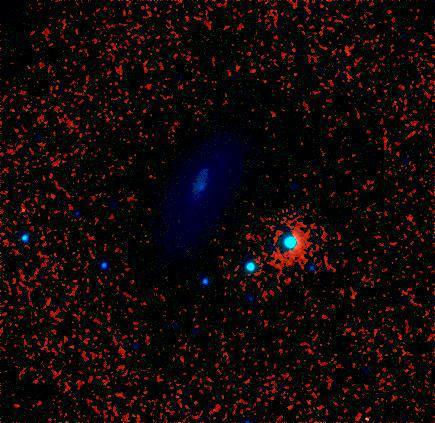star: (0, 37, 22, 67)
